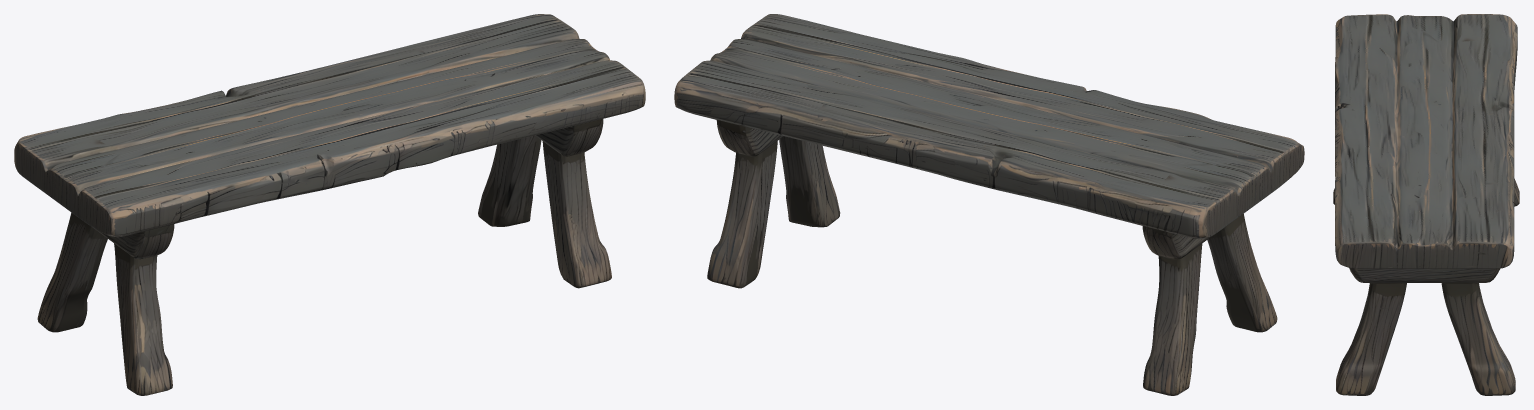
The model's file is lhi_mess_bench.glb.
The picture shows the model from 3 angles, left to right: view 1: azimuth 30°, elevation 25°; view 2: azimuth 150°, elevation 25°; view 3: azimuth 270°, elevation 25°; orthographic projection. The views are drawn at different scales.
Visible parts, largest first — view 1: material; view 2: material; view 3: material.
Part boxes in pixels (box(x1,y1,x2,y2)): material: box(14, 14, 645, 395); material: box(674, 14, 1304, 395); material: box(1333, 14, 1519, 395).
Bounding box in the file's own units: 1.09 × 0.3753 × 0.377.
1 material, 1 textured.
